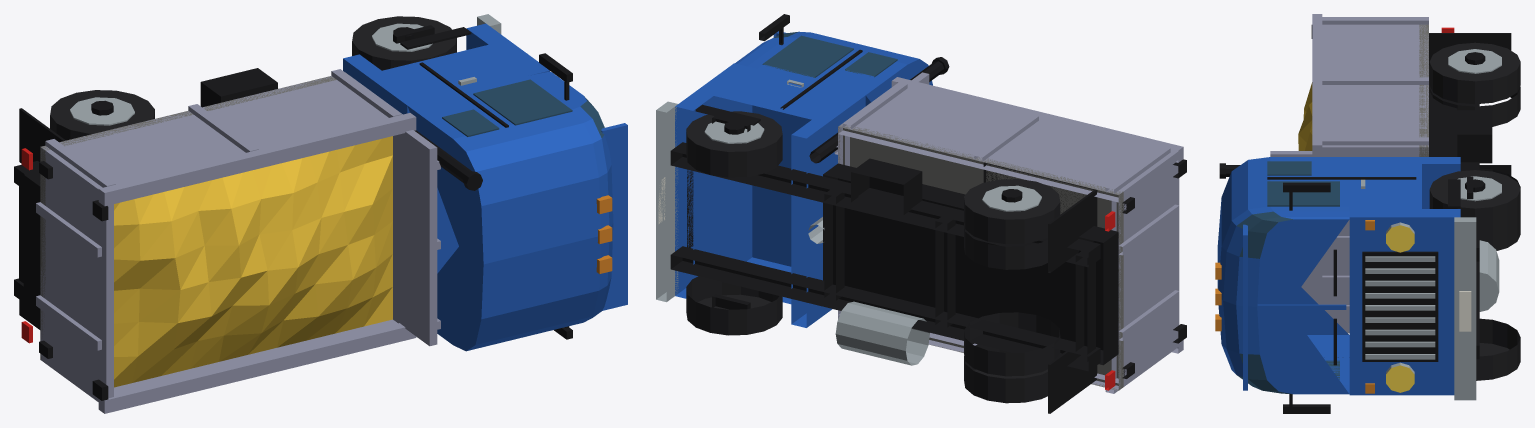
Rendered from loaded.glb.
The picture shows the model from 3 angles, left to right: view 1: azimuth 30°, elevation 25°; view 2: azimuth 150°, elevation 25°; view 3: azimuth 270°, elevation 25°; orthographic projection. The views are drawn at different scales.
Visible parts, largest first — view 1: loaded_load, loaded_bed, loaded_cab_upper, loaded_headboard, loaded_cab_arch, loaded_rear_out1, loaded_front1, loaded_visor, loaded_side_window1, loaded_subframe, loaded_cab_back, loaded_battery_box (+5 smaller); view 2: loaded_bed, loaded_subframe, loaded_cab_arch, loaded_chassis-1, loaded_cab_front, loaded_chassis1, loaded_cab_back, loaded_rear_out1, loaded_front1, loaded_cab_upper, loaded_fuel_tank, loaded_front-1 (+15 smaller); view 3: loaded_cab_upper, loaded_bed, loaded_cab_front, loaded_grille, loaded_rear_out1, loaded_bumper, loaded_front1, loaded_cab_arch, loaded_front-1, loaded_battery_box, loaded_subframe, loaded_cab_back (+28 smaller).
Part boxes in pixels (left/top/right/bottom): loaded_load: left=114, top=136, right=392, bottom=387; loaded_bed: left=36, top=69, right=416, bottom=413; loaded_cab_upper: left=407, top=72, right=613, bottom=351; loaded_headboard: left=404, top=130, right=437, bottom=346; loaded_cab_arch: left=382, top=44, right=530, bottom=273; loaded_rear_out1: left=50, top=90, right=154, bottom=140; loaded_front1: left=352, top=16, right=456, bottom=70; loaded_visor: left=601, top=123, right=627, bottom=310; loaded_side_window1: left=473, top=79, right=572, bottom=125; loaded_subframe: left=23, top=171, right=40, bottom=319; loaded_cab_back: left=343, top=54, right=423, bottom=114; loaded_battery_box: left=200, top=68, right=277, bottom=107; loaded_bed: left=838, top=77, right=1183, bottom=393; loaded_subframe: left=823, top=163, right=1118, bottom=365; loaded_cab_arch: left=713, top=67, right=849, bottom=304; loaded_chassis-1: left=670, top=246, right=1100, bottom=371; loaded_cab_front: left=675, top=63, right=752, bottom=298; loaded_chassis1: left=670, top=142, right=1100, bottom=267; loaded_cab_back: left=791, top=91, right=865, bottom=327; loaded_rear_out1: left=964, top=179, right=1060, bottom=244; loaded_front1: left=686, top=111, right=782, bottom=177; loaded_cab_upper: left=735, top=31, right=932, bottom=105; loaded_fuel_tank: left=835, top=301, right=929, bottom=365; loaded_front-1: left=686, top=276, right=782, bottom=335; loaded_cab_upper: left=1217, top=157, right=1349, bottom=394; loaded_bed: left=1312, top=14, right=1428, bottom=333; loaded_cab_front: left=1349, top=209, right=1460, bottom=395; loaded_grille: left=1362, top=251, right=1438, bottom=361; loaded_rear_out1: left=1429, top=42, right=1520, bottom=104; loaded_bumper: left=1454, top=217, right=1476, bottom=400; loaded_front1: left=1429, top=170, right=1520, bottom=232; loaded_cab_arch: left=1349, top=164, right=1421, bottom=208; loaded_front-1: left=1476, top=318, right=1520, bottom=380; loaded_battery_box: left=1457, top=110, right=1492, bottom=163; loaded_subframe: left=1429, top=65, right=1457, bottom=156; loaded_cab_back: left=1349, top=157, right=1460, bottom=208.
Bounding box in the file's own units: 7.65 × 3.98 × 4.82.
